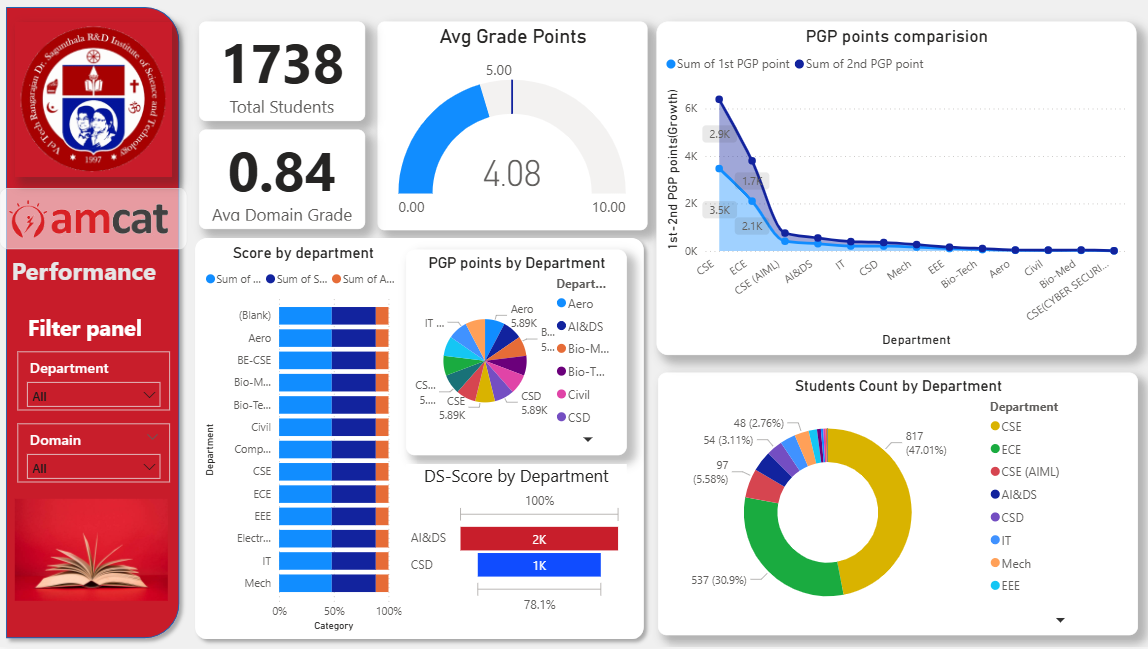

The dashboard page shown, as its layout file describes it:
{"tool":"powerbi","page":{"name":"Page 1","canvas":[1280,720],"ordinal":0},"visuals":[{"type":"gauge","fields":{"Y":["Sheet1.Avg Grade Points"]},"box":[422.5,24.2,299.8,231.7],"z":0},{"type":"shape","box":[0,0,210.5,719.2],"z":1000},{"type":"textbox","box":[10.6,278.6,192.3,51.5],"z":2000},{"type":"image","box":[1.5,210.5,209,68.1],"z":3000},{"type":"card","fields":{"Values":["Sheet1.Total Students"]},"box":[224.1,24.2,184.7,110.5],"z":4000},{"type":"card","fields":{"Values":["Sheet1.Avg Domain Grade"]},"box":[224.1,145.4,184.7,110.5],"z":5000},{"type":"shape","box":[210.5,255.9,516.3,463.3],"z":6000},{"type":"hundredPercentStackedBarChart","title":"Score by department","fields":{"Y":["Sheet1.WriteX_Total Score","Sheet1.SVAR score","Sheet1.Automata(Score)"],"Category":["Sheet1 (2).tag2"]},"box":[224.7,271.2,228.5,435.1],"z":7000},{"type":"donutChart","fields":{"Category":["Sheet1.Department"],"Y":["Sheet1.Students Count"]},"box":[733.3,415.2,533,292.2],"z":8000},{"type":"pieChart","title":"PGP points by Department","fields":{"Y":["Sheet1 (2).PGP points"],"Category":["Sheet1.Department"]},"box":[452.7,278.6,245.3,228.6],"z":9000},{"type":"stackedAreaChart","title":"PGP points comparision","fields":{"Y":["Sheet1.1st PGP point","Sheet1.2nd PGP point"],"Category":["Sheet1.Department"]},"box":[731.4,24.2,533,371],"z":10000},{"type":"funnel","title":"DS-Score by Department","fields":{"Category":["Sheet1.Department"],"Y":["Sheet1.Data Science(Score)"]},"box":[452.7,516.3,245.3,169.6],"z":11000},{"type":"image","box":[18.2,24.2,175.6,172.6],"z":12000},{"type":"slicer","fields":{"Values":["Sheet1.Department"]},"box":[21.2,392.2,169.6,65.1],"z":13000},{"type":"slicer","fields":{"Values":["Sheet1 (2).Domain"]},"box":[21.2,472.4,169.6,65.1],"z":14000},{"type":"textbox","box":[28.8,343.7,156,51.5],"z":15000},{"type":"image","box":[13.6,516.3,180.2,190.8],"z":16000}]}

Visuals, with their boxes in screenshot pixels (x1, y1, x2, y2), scaled from the page's 1280x720 canvas onto the 1148x649 screenshot:
gauge - Sheet1.Avg Grade Points: [379,22,648,231]
shape: [0,0,189,648]
textbox: [10,251,182,298]
image: [1,190,189,251]
card - Sheet1.Total Students: [201,22,367,121]
card - Sheet1.Avg Domain Grade: [201,131,367,231]
shape: [189,231,652,648]
"Score by department" hundredPercentStackedBarChart: [202,244,406,637]
donutChart - Sheet1.Department x Sheet1.Students Count: [658,374,1136,638]
"PGP points by Department" pieChart: [406,251,626,457]
"PGP points comparision" stackedAreaChart: [656,22,1134,356]
"DS-Score by Department" funnel: [406,465,626,618]
image: [16,22,174,177]
slicer - Sheet1.Department: [19,354,171,412]
slicer - Sheet1 (2).Domain: [19,426,171,484]
textbox: [26,310,166,356]
image: [12,465,174,637]
